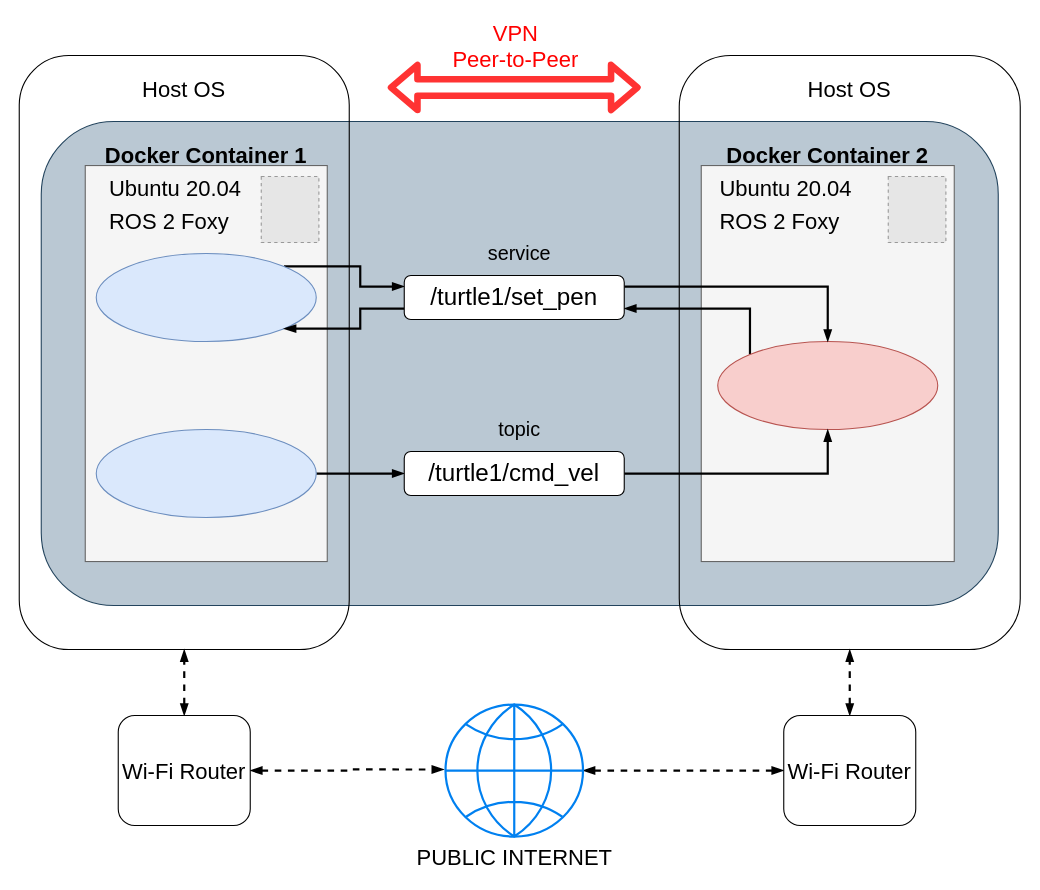
Some shapes in this 1040 by 890 pixel diagram are drawn without their labels. Grey dashed boxes stand in for pictures. Each missing label, with the centre of its shape:
"/color_controller" goes at (205,297).
"/move_controller" goes at (205,473).
"/turtlesim" goes at (827,385).
